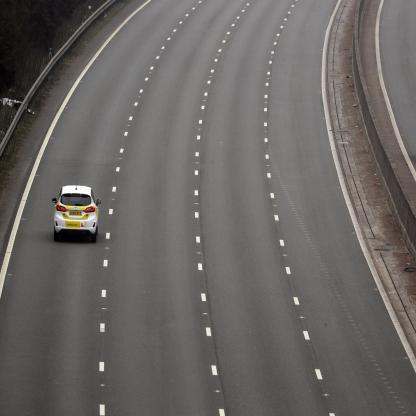vehicle: (51, 184, 103, 241)
